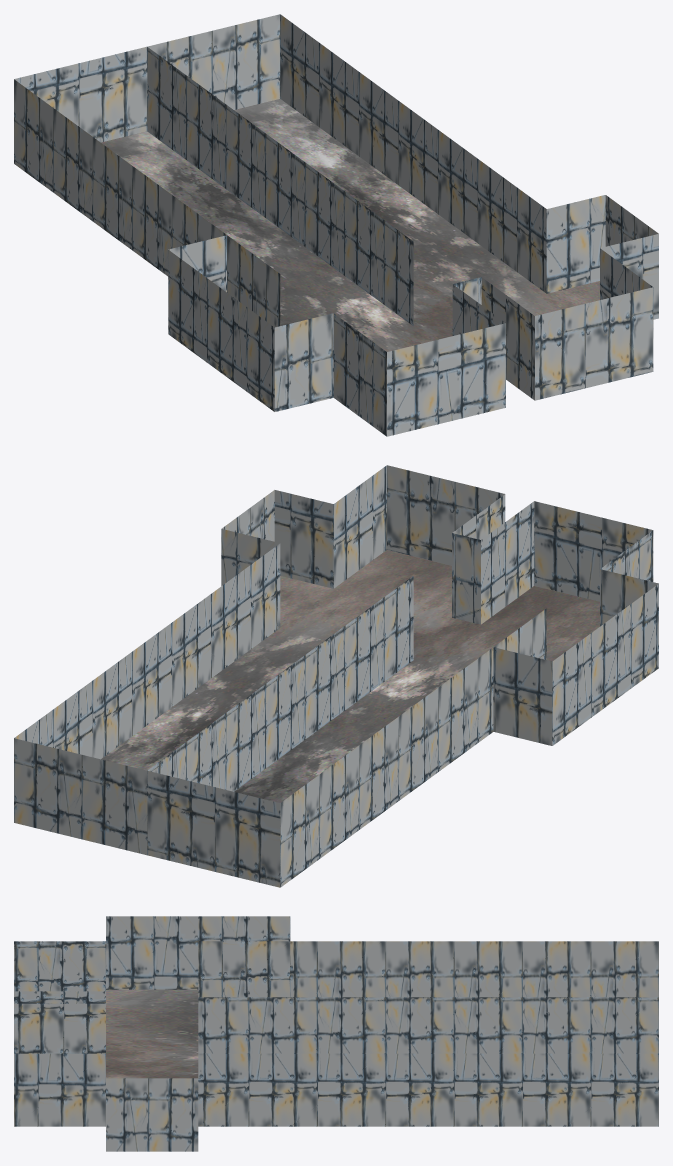
Rendered from LevelRace.fbx.
3 renders of one model, top to bottom at view 1: azimuth 30°, elevation 25°; view 2: azimuth 150°, elevation 25°; view 3: azimuth 270°, elevation 25°, orthographic. The views are drawn at different scales.
Visible parts, largest first — view 1: pPlane1; view 2: pPlane1; view 3: pPlane1.
Boxes of the visible parts, x1,y1,x2,y2 form: pPlane1: (14,14,658,436); pPlane1: (14,465,658,887); pPlane1: (14,916,658,1151).
Size of the model in its own units: 14.25 by 3 by 23.95.
Materials: 2 (2 with a texture image).
